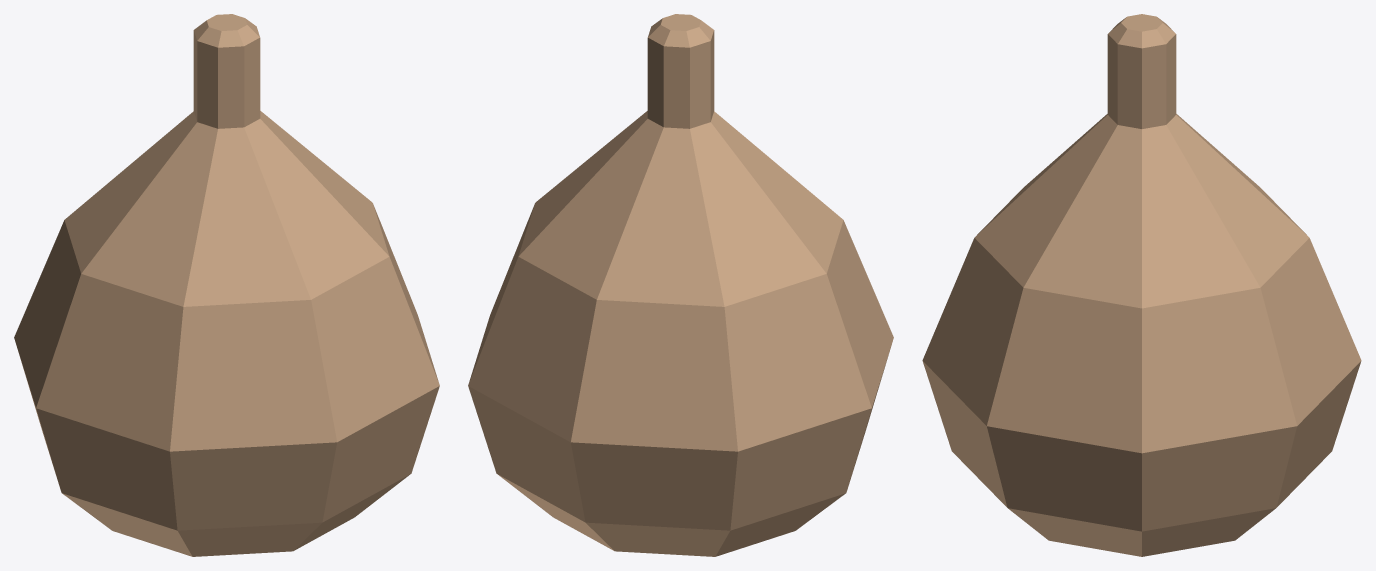
The model's file is Whisky6.fbx.
3 renders of one model, left to right at view 1: azimuth 30°, elevation 25°; view 2: azimuth 150°, elevation 25°; view 3: azimuth 270°, elevation 25°, orthographic.
Visible parts, largest first — view 1: Whisky6; view 2: Whisky6; view 3: Whisky6.
Part boxes in pixels (x1,y1,x2,y2): Whisky6: (14, 14, 439, 556); Whisky6: (468, 14, 893, 556); Whisky6: (922, 14, 1361, 556).
Bounding box in the file's own units: 0.1328 × 0.1596 × 0.1328.
1 material, 1 textured.
